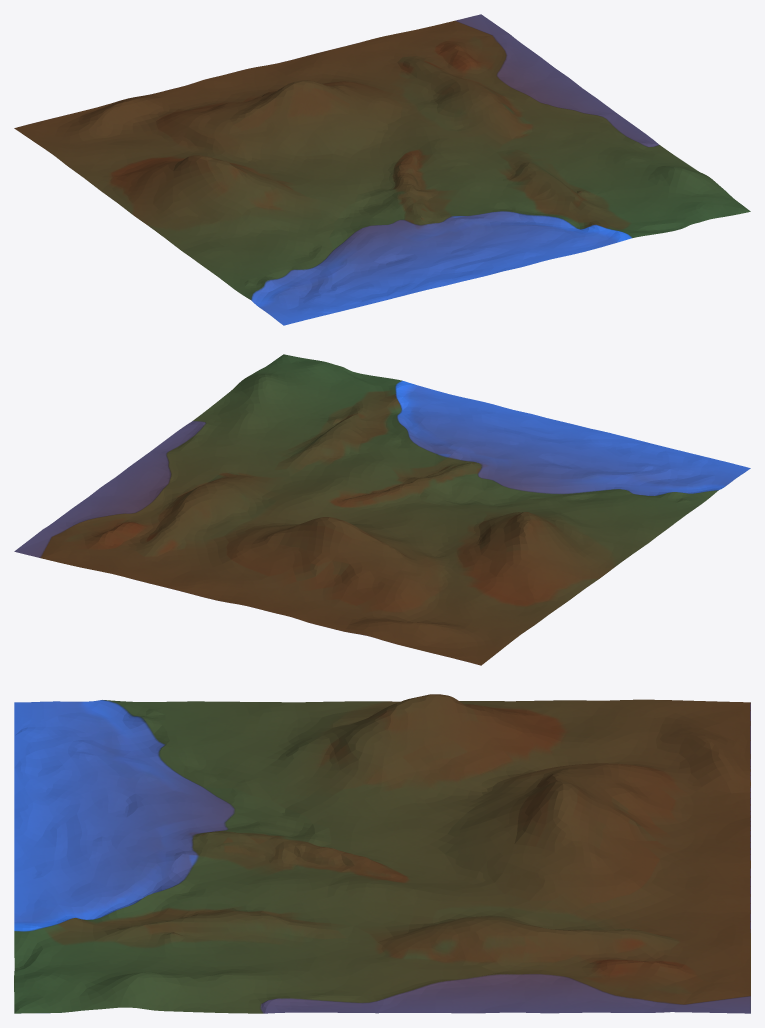
Rendered from WhyNot_RTS_Map_UV_Improved.fbx.
3 views of the same model, one above another, from view 1: azimuth 30°, elevation 25°; view 2: azimuth 150°, elevation 25°; view 3: azimuth 270°, elevation 25° (orthographic). The views are drawn at different scales.
Parts seen in each view (by area): view 1: 평면.007, 평면.006; view 2: 평면.007, 평면.006; view 3: 평면.007, 평면.006.
Part boxes in pixels (box(x1,y1,x2,y2)): 평면.007: box(14, 21, 750, 299); 평면.006: box(251, 14, 658, 325); 평면.007: box(41, 354, 718, 665); 평면.006: box(14, 381, 750, 558); 평면.007: box(14, 694, 750, 1013); 평면.006: box(14, 700, 750, 1013).
Bounding box in the file's own units: 20012 × 1961 × 20013.
